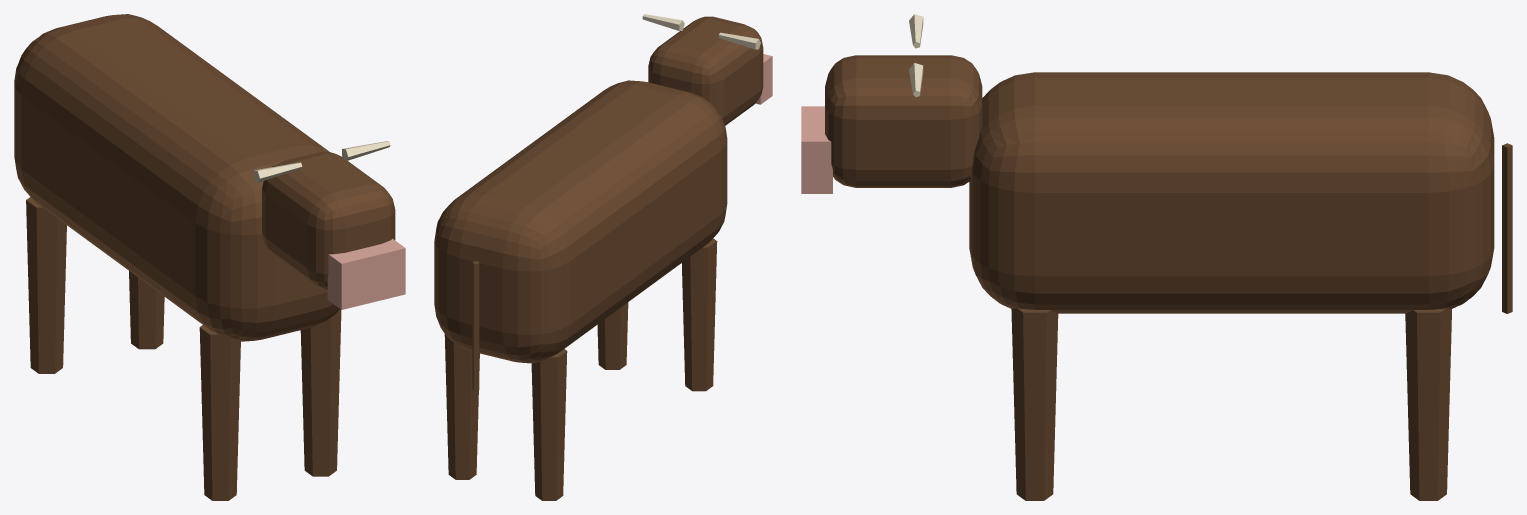
File: cow_b.glb
3 views of the same model, side by side, from view 1: azimuth 30°, elevation 25°; view 2: azimuth 150°, elevation 25°; view 3: azimuth 270°, elevation 25° (orthographic). The views are drawn at different scales.
Parts seen in each view (by area): view 1: cow; view 2: cow; view 3: cow.
Boxes of the visible parts, <box> form: cow: <box>14,14,405,500</box>; cow: <box>434,14,772,500</box>; cow: <box>801,14,1512,500</box>.
Size of the model in its own units: 0.75 by 1.75 by 2.71.
